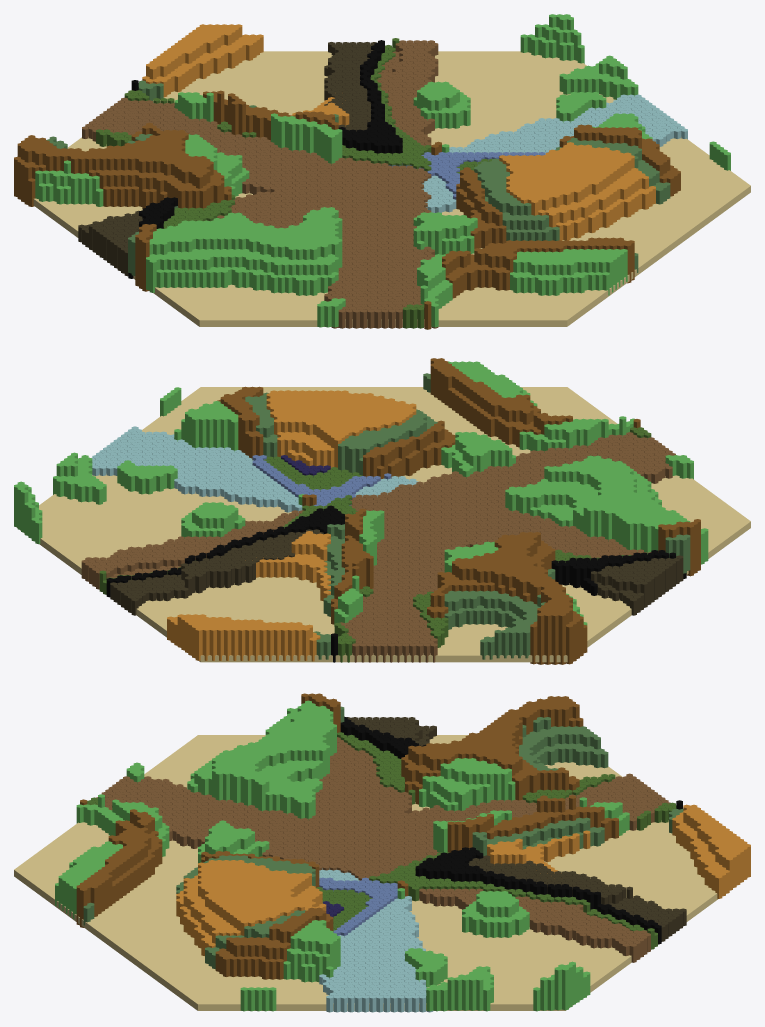
File: 0014_tile_1111102.fbx
3 renders of one model, top to bottom at view 1: azimuth 30°, elevation 25°; view 2: azimuth 150°, elevation 25°; view 3: azimuth 270°, elevation 25°, orthographic.
Parts seen in each view (by area): view 1: Plane; view 2: Plane; view 3: Plane.
Boxes of the visible parts, x1=… form: Plane: x1=14, y1=14, x2=750, y2=329; Plane: x1=14, y1=358, x2=750, y2=664; Plane: x1=14, y1=693, x2=750, y2=1012.
Bounding box in the file's own units: 1008 × 84.18 × 1152.
